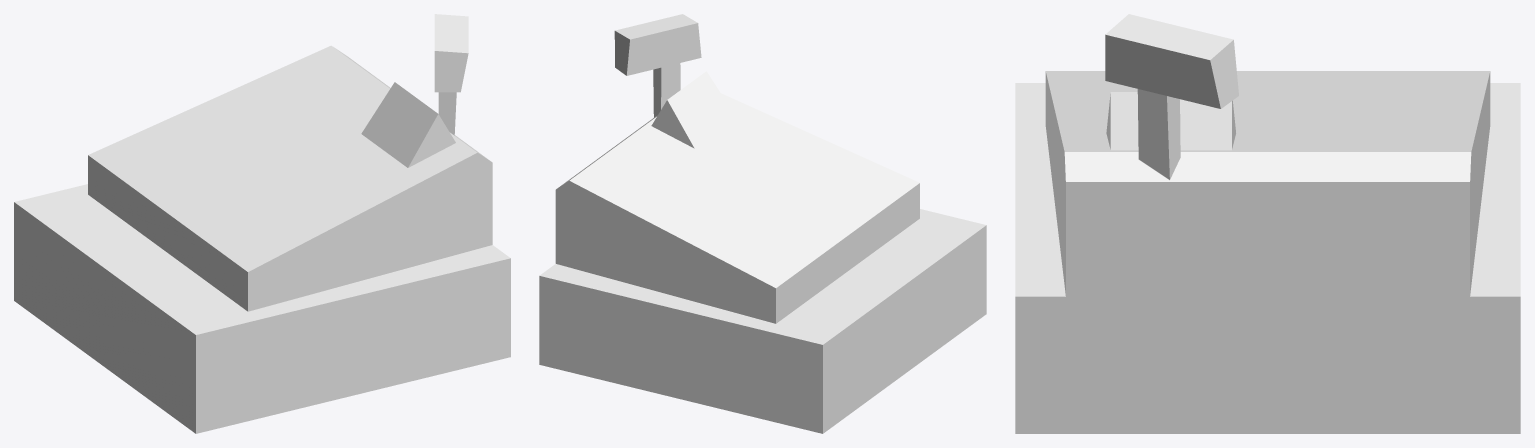
Rendered from cashRegister.glb.
3 views of the same model, side by side, from view 1: azimuth 30°, elevation 25°; view 2: azimuth 150°, elevation 25°; view 3: azimuth 270°, elevation 25° (orthographic). The views are drawn at different scales.
Parts seen in each view (by area): view 1: cash_Register; view 2: cash_Register; view 3: cash_Register.
Part boxes in pixels (x1=…): cash_Register: x1=14, y1=14, x2=510, y2=433; cash_Register: x1=539, y1=14, x2=986, y2=433; cash_Register: x1=1015, y1=14, x2=1520, y2=433.
Size of the model in its own units: 0.5443 by 0.4324 by 0.5.
1 material, 1 textured.
